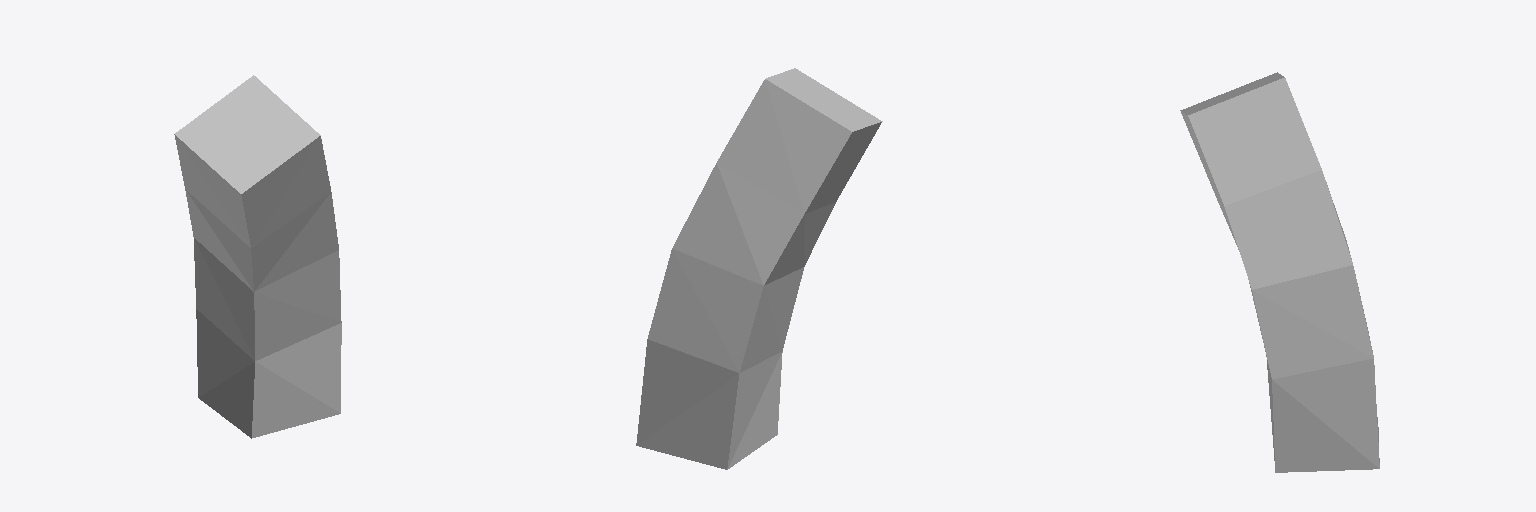
File: wiggle_000006.obj
3 renders of one model, left to right at view 1: azimuth 30°, elevation 25°; view 2: azimuth 150°, elevation 25°; view 3: azimuth 270°, elevation 25°, orthographic.
Parts seen in each view (by area): view 1: Cube; view 2: Cube; view 3: Cube.
Boxes of the visible parts, <box> form: Cube: <box>174,75,341,438</box>; Cube: <box>636,68,882,469</box>; Cube: <box>1180,72,1379,472</box>.
Size of the model in its own units: 3.67 by 7.56 by 3.82.